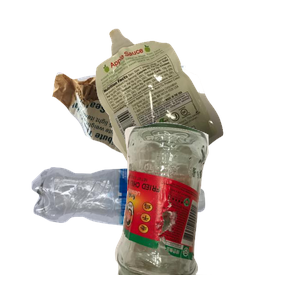cardboard: (50, 62, 228, 226)
glass: (112, 120, 300, 300)
plastic: (29, 165, 227, 300)
trash: (93, 26, 300, 200)
